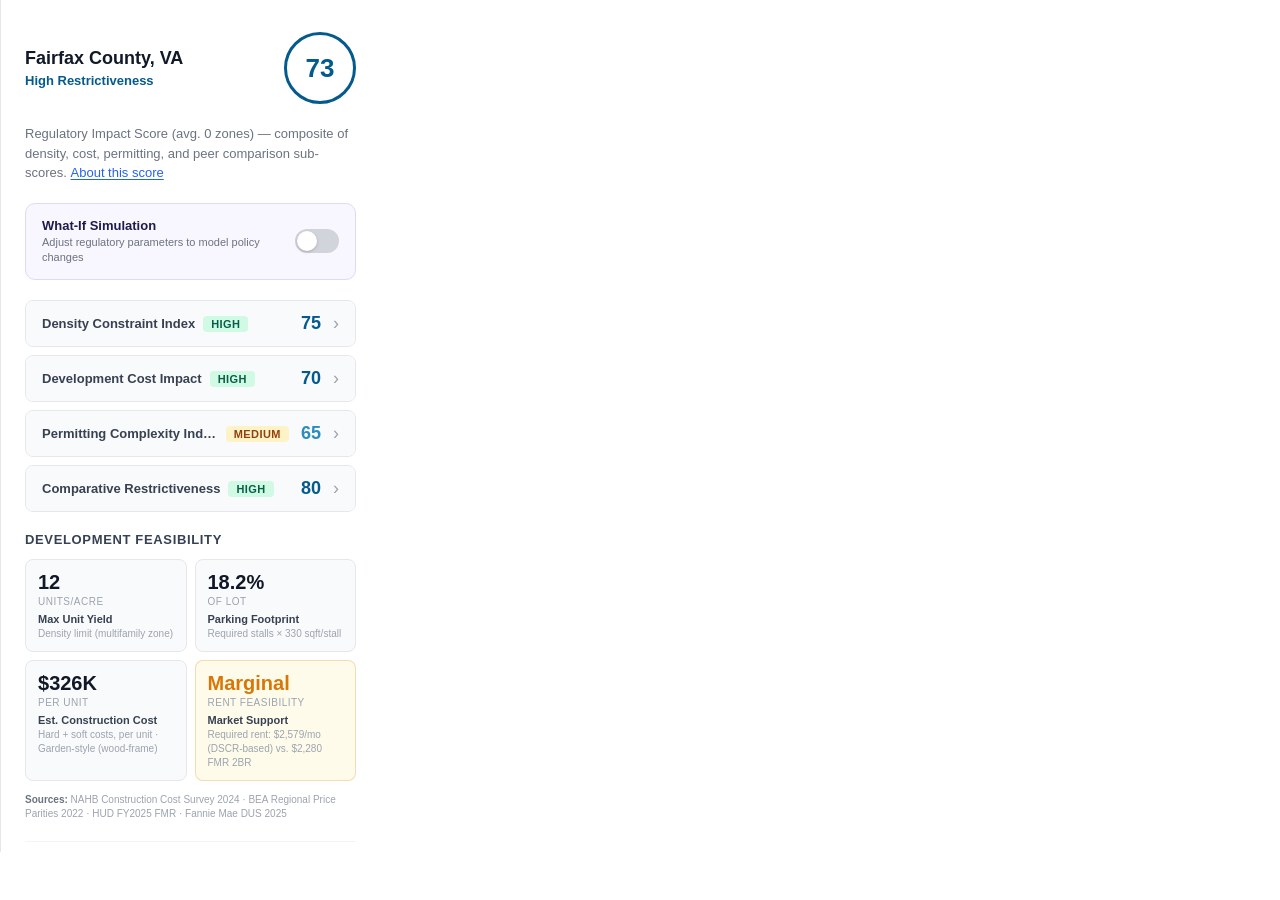
Scenario: ScorePanel › About this score link opens methodology modal
This screenshot has width=1280, height=900.
Step 1. Click the button "About this score" → {"x": 117, "y": 172}, box [70,165,164,180]
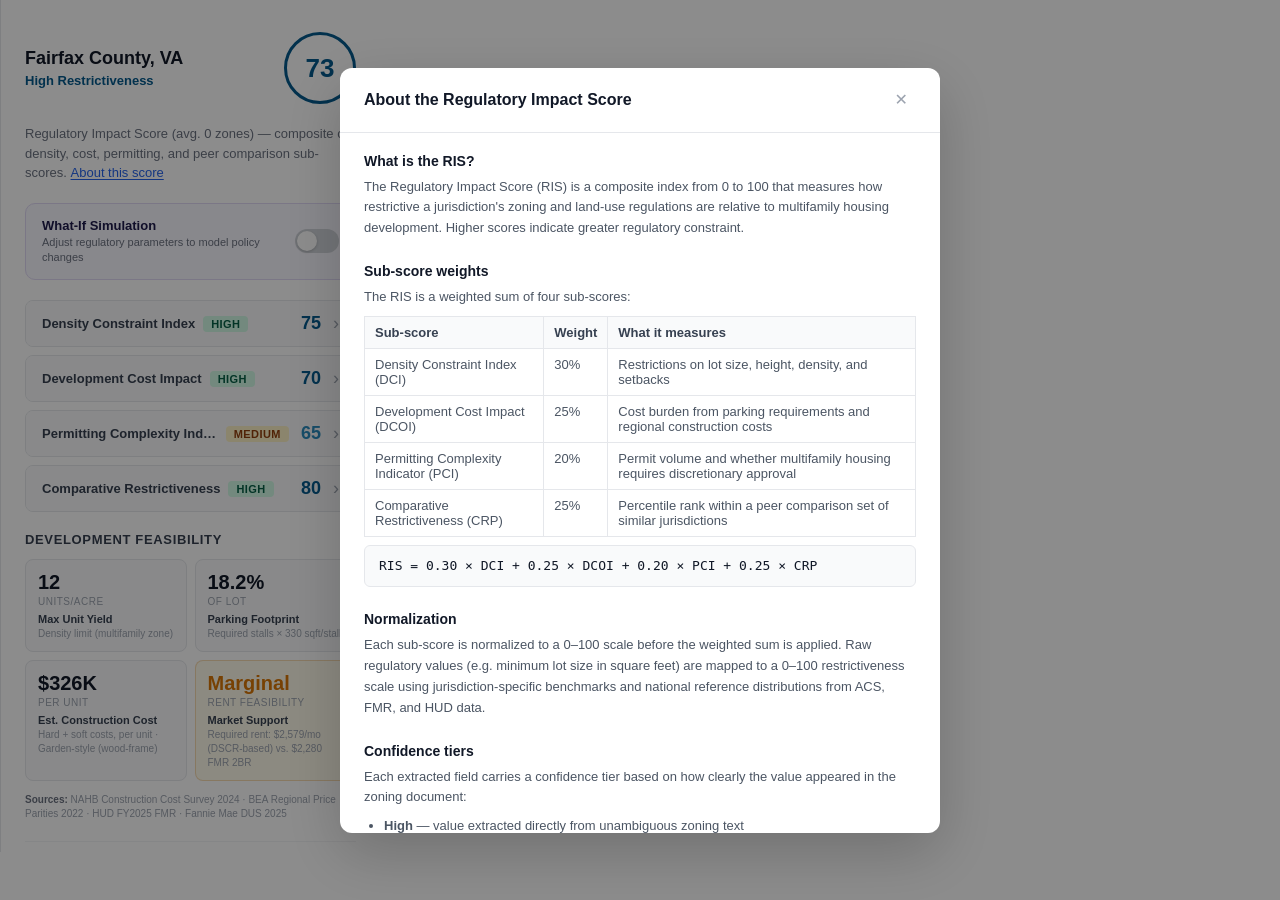
Result: the dialog is shown
Result: the heading "About the Regulatory Impact Score" is shown at [364,90,632,108]
